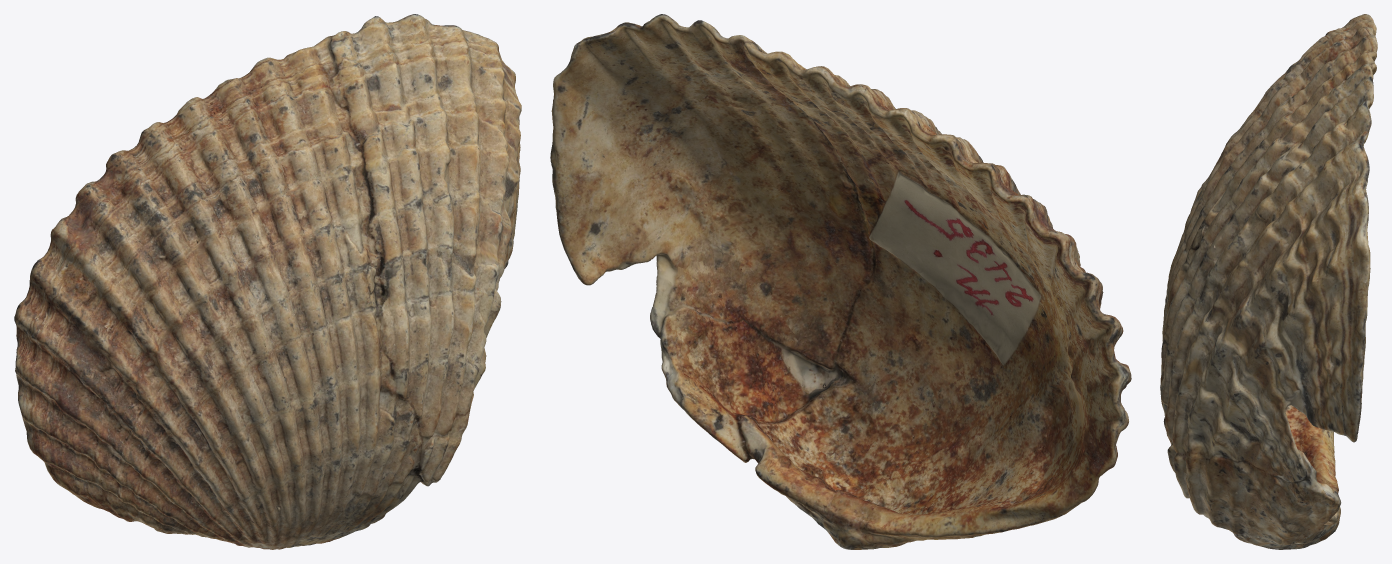
File: EWS0014137.glb
The picture shows the model from 3 angles, left to right: view 1: azimuth 30°, elevation 25°; view 2: azimuth 150°, elevation 25°; view 3: azimuth 270°, elevation 25°; orthographic projection. The views are drawn at different scales.
Parts seen in each view (by area): view 1: input; view 2: input; view 3: input.
Boxes of the visible parts, x1,y1,x2,y2 form: input: (14,14,521,549); input: (550,14,1131,549); input: (1160,14,1377,549).
Bounding box in the file's own units: 0.0463 × 0.0407 × 0.0153.
1 material, 1 textured.
